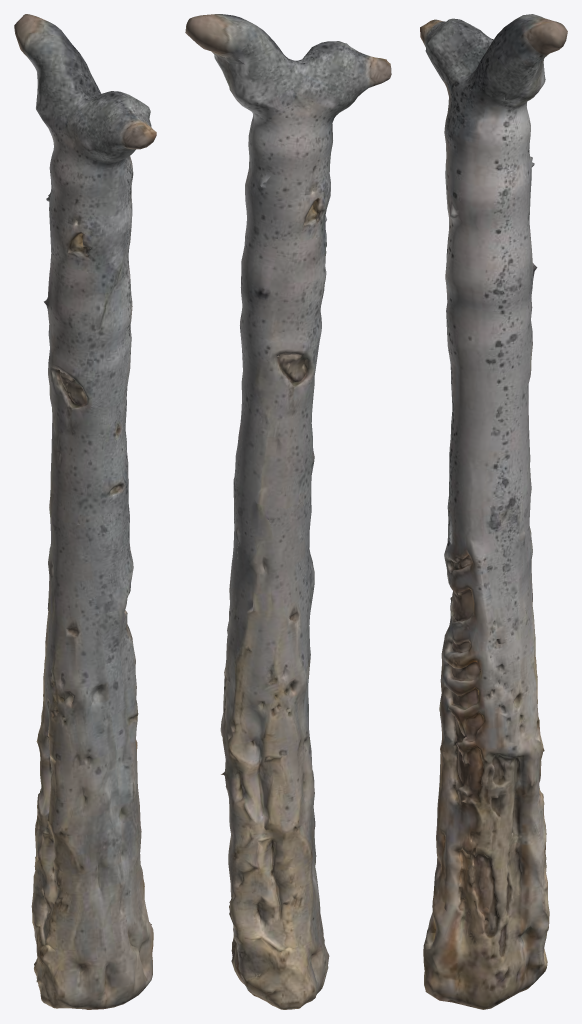
The model's file is dead_quiver_trunk.glb.
The picture shows the model from 3 angles, left to right: view 1: azimuth 90°, elevation 25°; view 2: azimuth 150°, elevation 25°; view 3: azimuth 270°, elevation 25°; orthographic projection. The views are drawn at different scales.
Visible parts, largest first — view 1: dead_quiver_trunk_LOD0; view 2: dead_quiver_trunk_LOD0; view 3: dead_quiver_trunk_LOD0.
Part boxes in pixels (x1,y1,x2,y2): dead_quiver_trunk_LOD0: (14,14,156,1009); dead_quiver_trunk_LOD0: (185,14,391,1009); dead_quiver_trunk_LOD0: (420,14,567,1009).
Size of the model in its own units: 0.3065 by 1.99 by 0.2681.
Materials: 1 (1 with a texture image).
